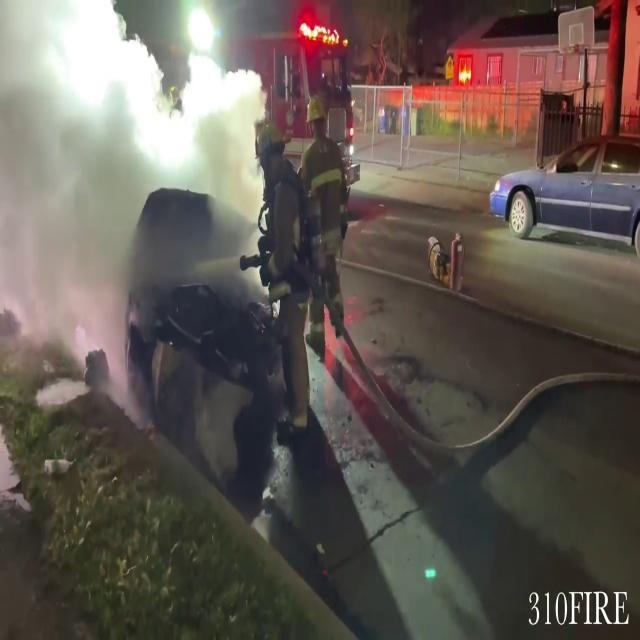Smoke: (0, 0, 266, 333)
